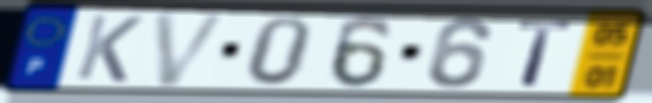0: (243, 14, 314, 87)
6: (329, 14, 396, 91), (424, 16, 493, 90)
K: (71, 12, 147, 85)
T: (514, 20, 577, 89)
V: (150, 10, 235, 89)
